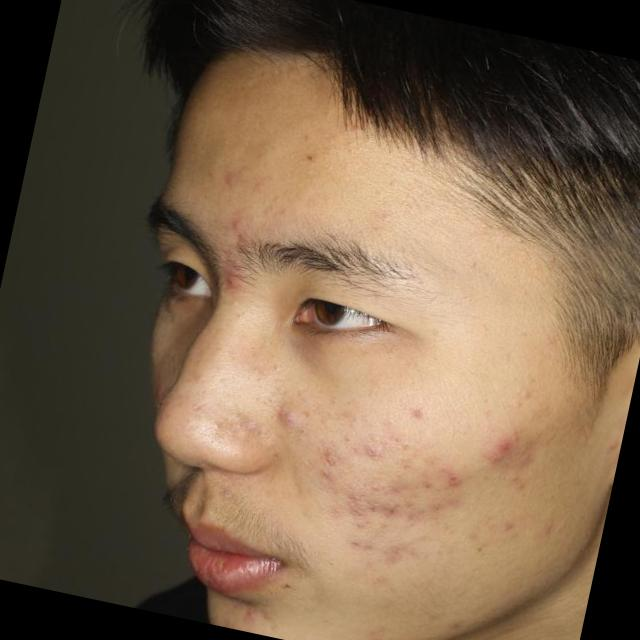acne: (476, 427, 532, 487), (400, 400, 448, 438), (350, 428, 388, 470), (378, 468, 417, 508), (215, 157, 250, 198), (435, 462, 473, 498), (302, 457, 342, 491), (260, 402, 298, 434), (371, 538, 411, 568), (371, 498, 408, 530), (339, 519, 374, 552), (218, 268, 250, 299), (220, 212, 250, 245), (397, 502, 430, 531), (338, 476, 372, 503), (356, 494, 387, 522), (340, 497, 367, 529), (319, 438, 347, 468), (433, 488, 465, 514), (242, 598, 271, 626), (409, 470, 434, 492)
